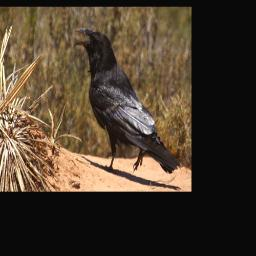Crow: (75, 28, 181, 174)
